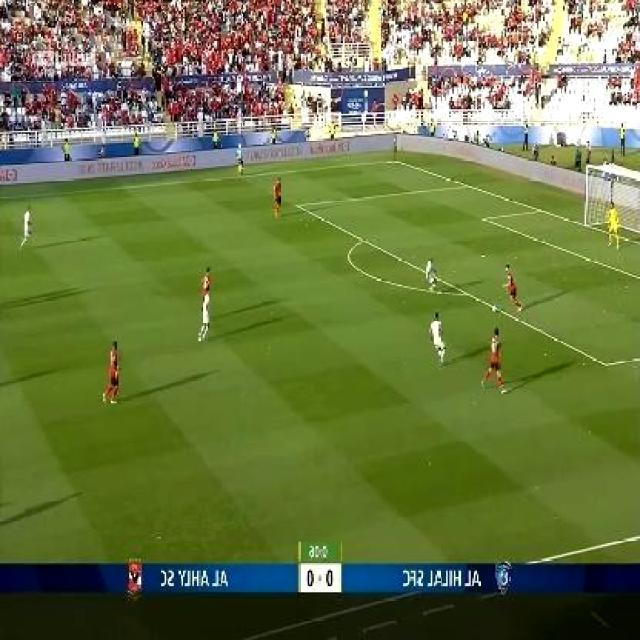bigarea_bottom_inner: (598, 351, 617, 375)
bigarea_top_inner: (294, 197, 306, 212)
bigarea_top_outter: (463, 178, 475, 191)
bottom_arc_area_intersection: (460, 283, 474, 300)
corner: (389, 154, 405, 164)
smallarea_top_inner: (480, 210, 492, 224)
smallarea_top_outter: (536, 201, 550, 217)
top_arc_area_intersection: (358, 231, 371, 246)
